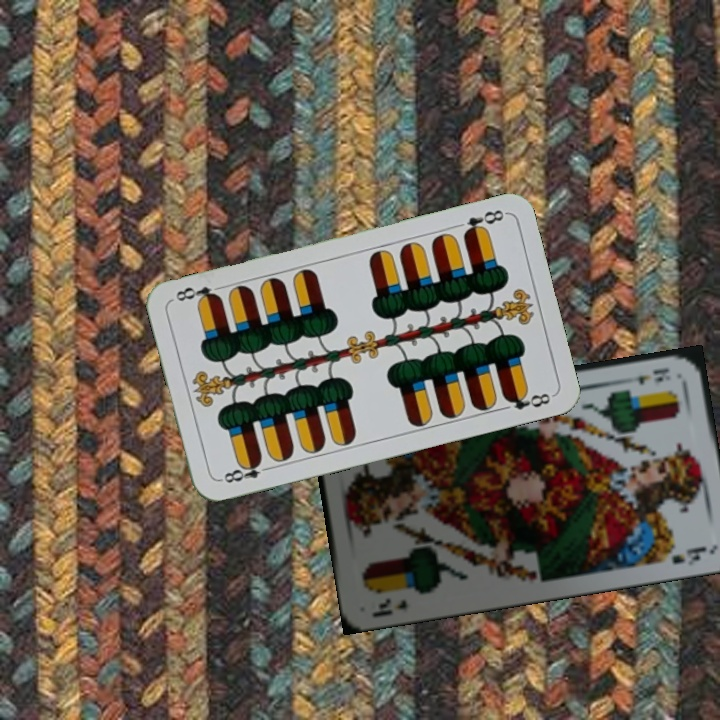E8: (215, 455, 274, 486), (459, 205, 508, 239)
EK: (621, 364, 672, 388), (368, 594, 410, 620)
